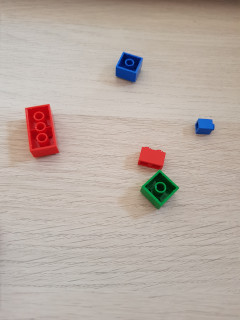1x1 blue: (194, 118, 216, 136)
1x2 red: (138, 145, 166, 168)
2x2 blue: (116, 52, 143, 84)
2x2 green: (141, 171, 179, 209)
2x4 red: (25, 103, 60, 160)
